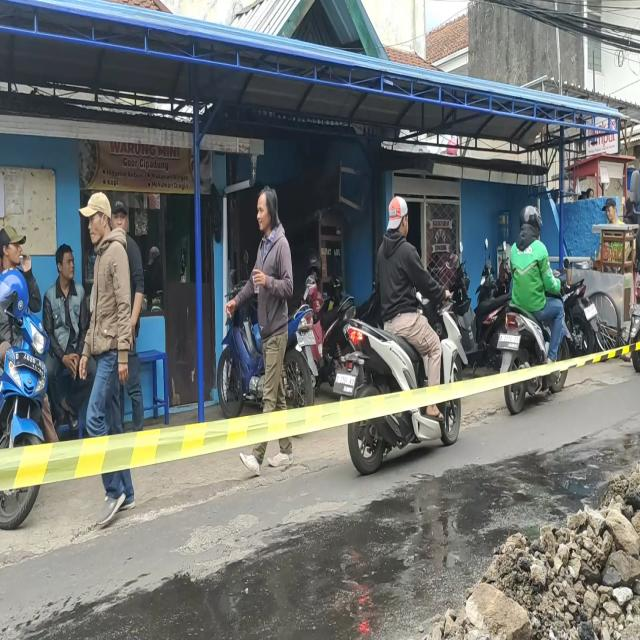helmet: (519, 204, 543, 234)
no-helmet: (388, 198, 410, 238)
